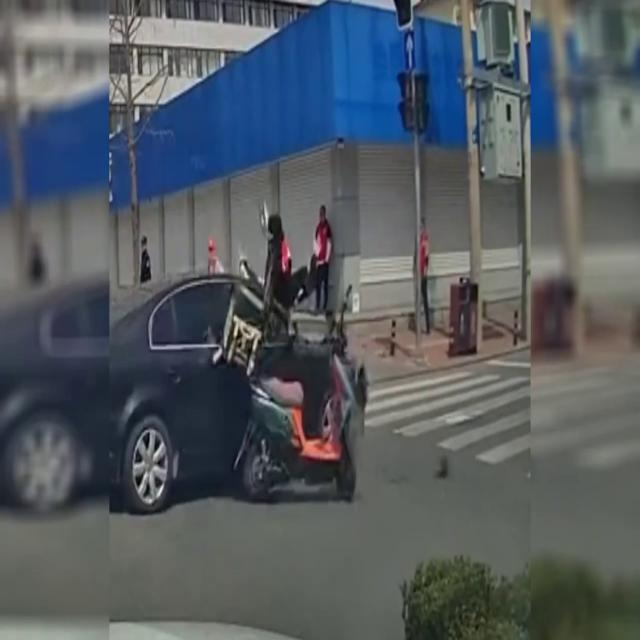accident: (106, 202, 370, 516)
